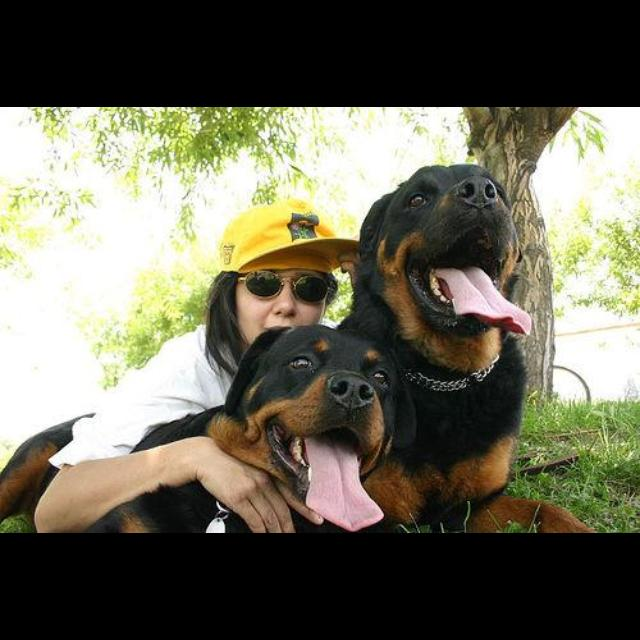face: (235, 257, 331, 346)
person: (32, 197, 362, 532)
rottweiler: (329, 165, 602, 534), (1, 326, 417, 534)
